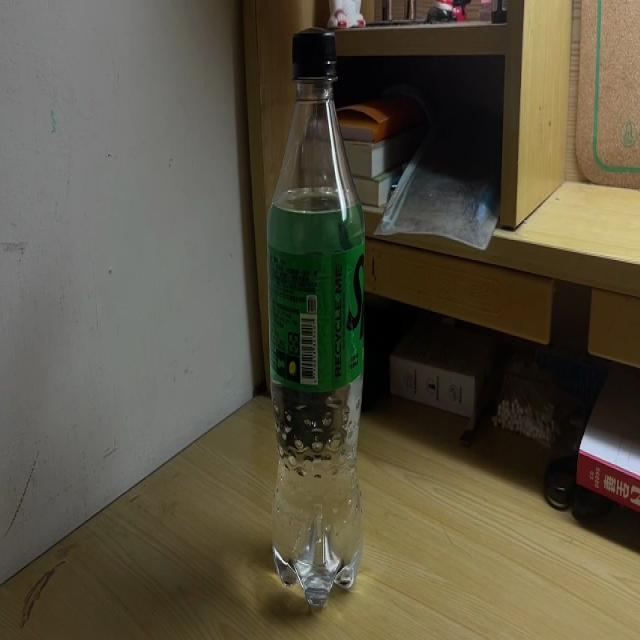Sprite: (265, 30, 368, 609)
